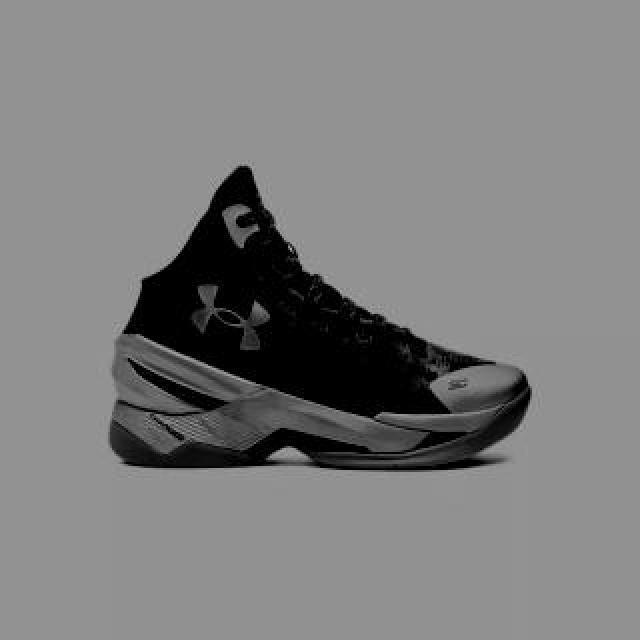shoes: (109, 165, 533, 469)
